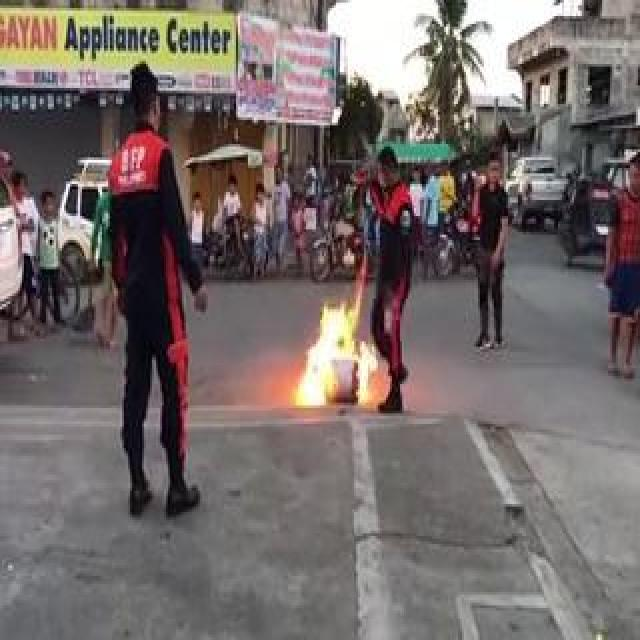Smoke: (303, 296, 397, 421)
